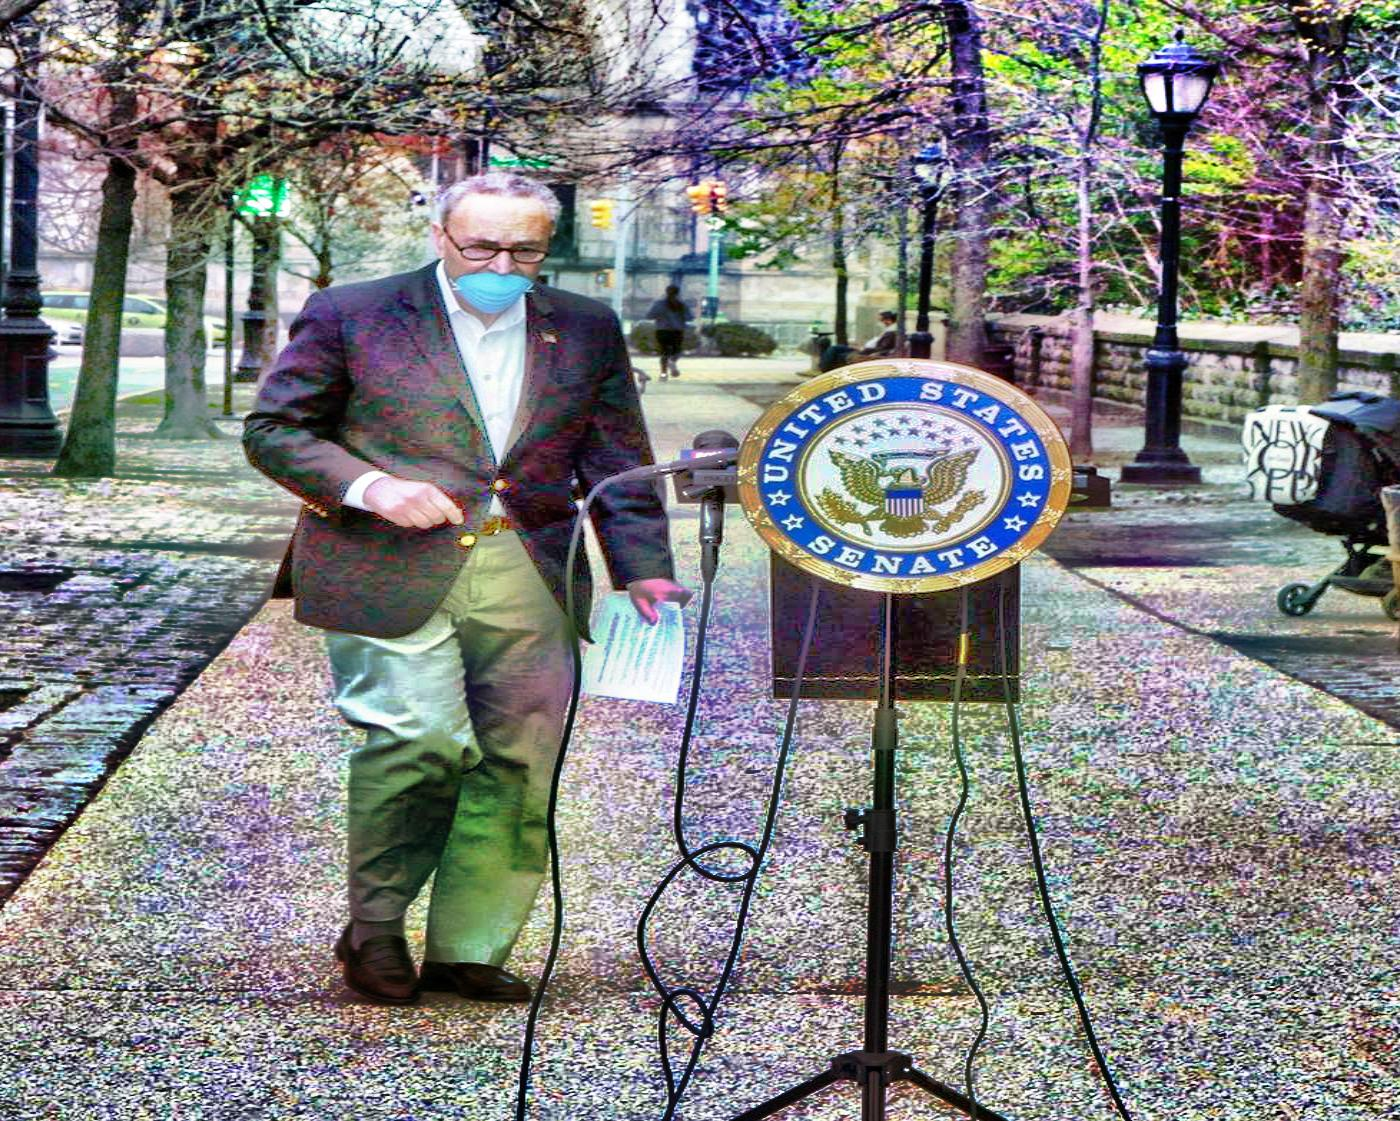mask_weared_incorrect: (426, 172, 564, 319)
